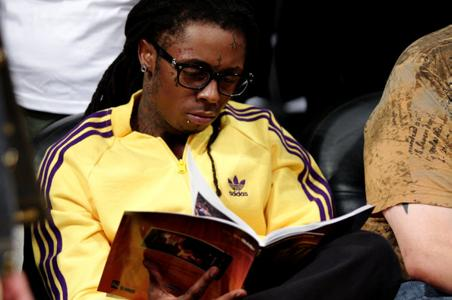person: (30, 2, 406, 300)
